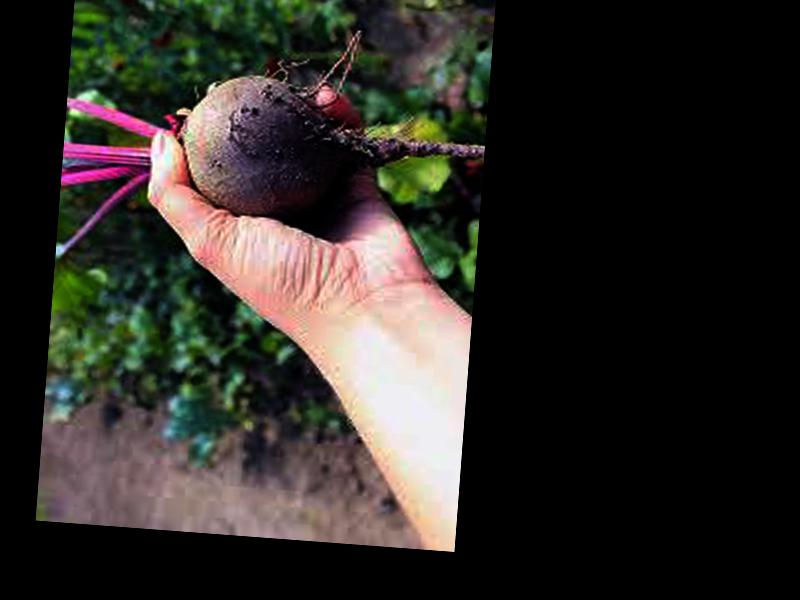Beet: (57, 6, 493, 291)
